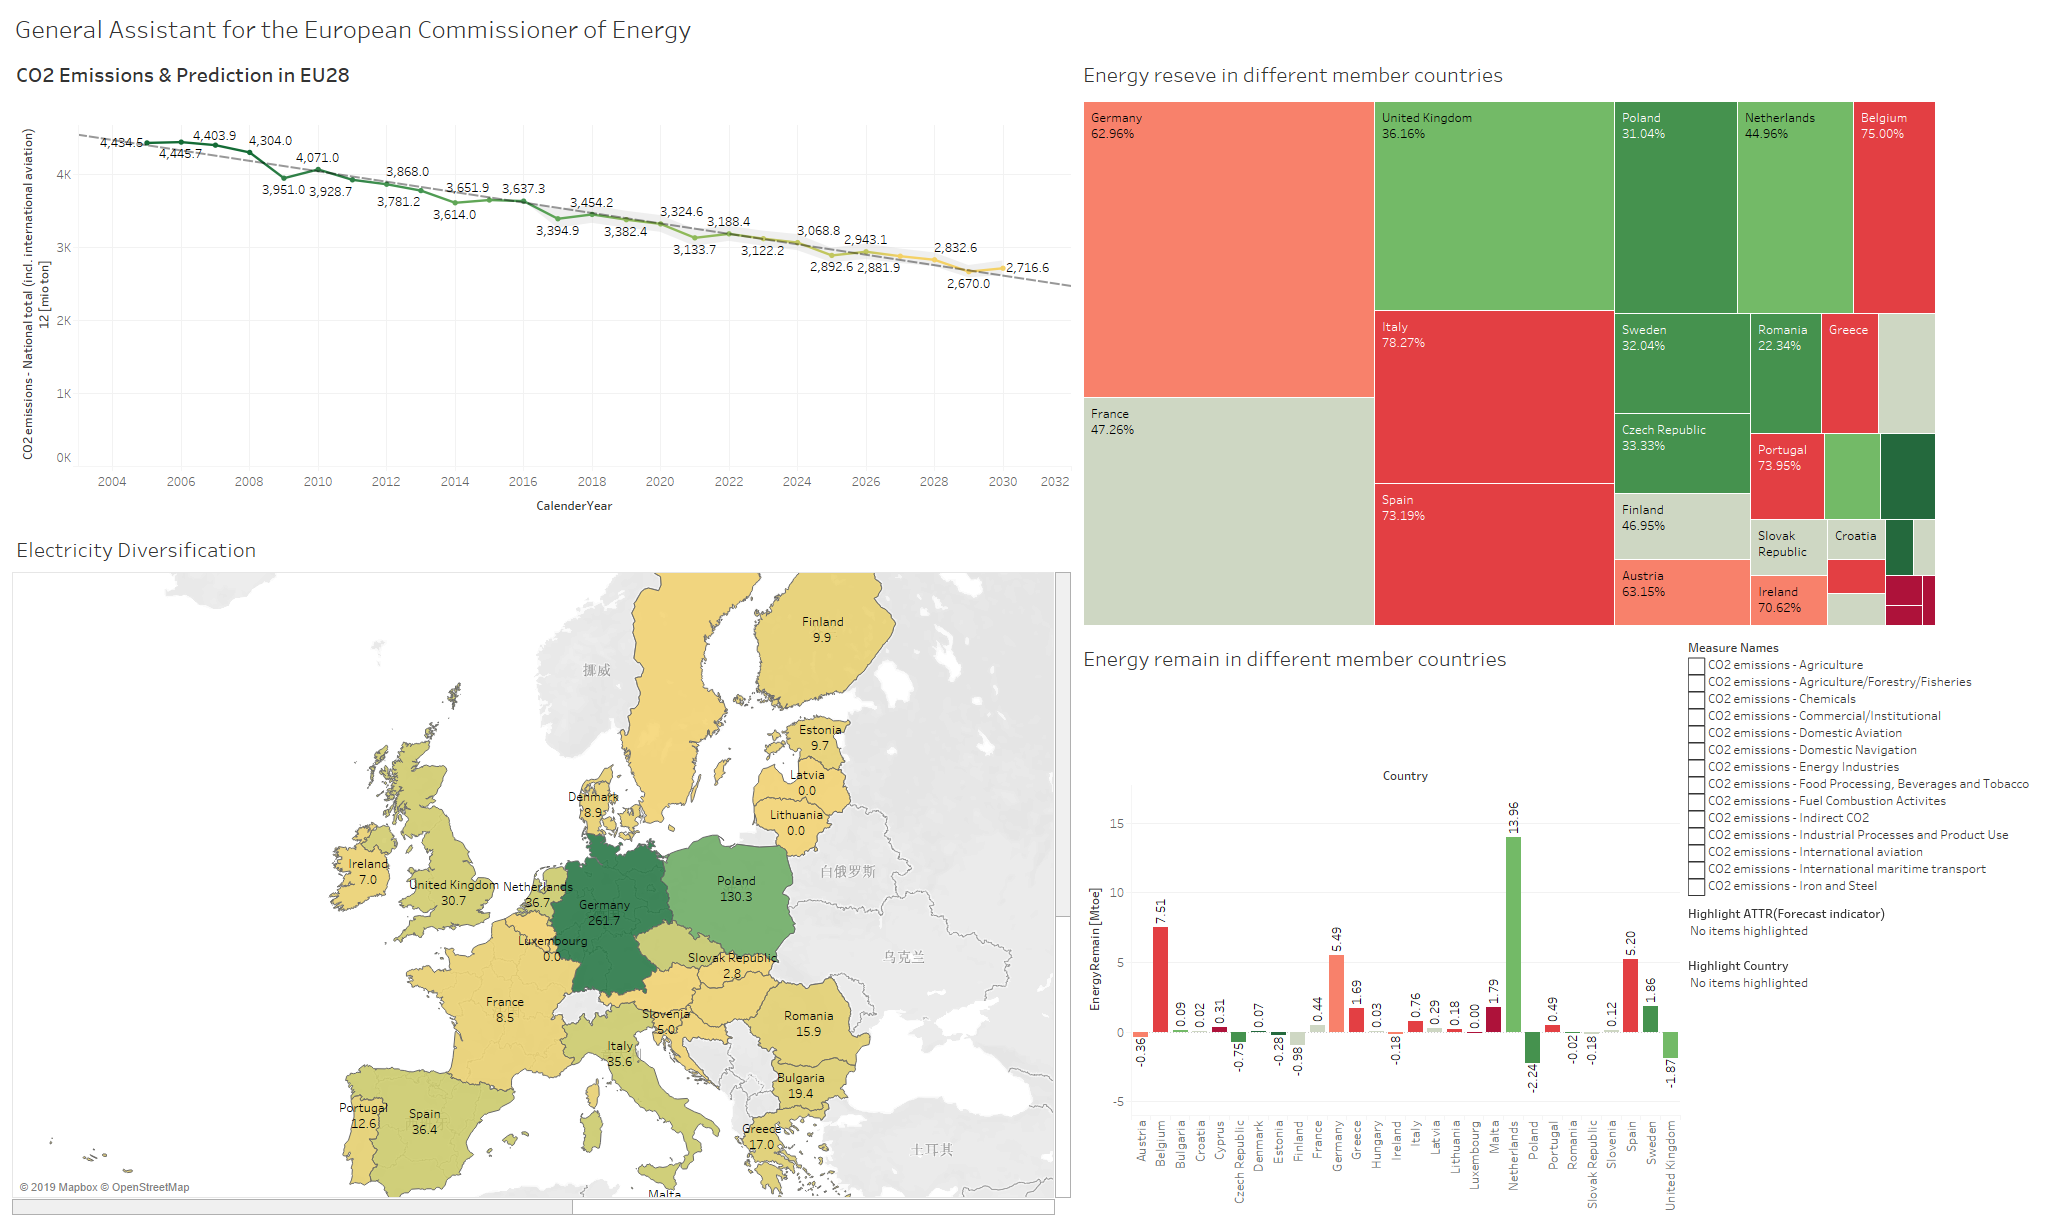

The page's visual inventory and layout, read from the dashboard file:
{"tool":"tableau","page":{"name":"General Assistant for the European Commissioner of Energy","canvas":[2069,1227],"ordinal":0},"visuals":[{"type":"title","box":[8,8,2053,42]},{"type":"worksheet","title":"CO2Emissions&Prediction","mark":"Line","rows":["CO2 emissions - National total (incl. international aviation"],"cols":["CalenderYear"],"box":[8,50,1067,475]},{"type":"worksheet","title":"EnergyReserve","mark":"Automatic","box":[1075,50,986,584.4]},{"type":"worksheet","title":"ElectricityDiversification","mark":"Automatic","box":[8,525,1067,694]},{"type":"worksheet","title":"EnergyRemain","mark":"Automatic","rows":["Calculation_649362818966081536"],"cols":["Country"],"box":[1075,634.4,609.4,584.6]},{"type":"filter","title":"ElectricityDiversification","param":"[federated.1gayz890fdzs9511abcvl0mtqnmx].[:Measure Names]","box":[1684.4,634.4,376.6,266]},{"type":"highlighter","title":"CO2Emissions&Prediction","param":"[federated.1gayz890fdzs9511abcvl0mtqnmx].[attr:Forecast Indicator:nk]","box":[1684.4,900.4,376.6,52]},{"type":"highlighter","title":"EnergyReserve","param":"[federated.1gayz890fdzs9511abcvl0mtqnmx].[none:Country:nk]","box":[1684.4,952.4,376.6,52]}]}

Visuals, with their boxes in screenshot pixels (x1, y1, x2, y2), scaled from the page's 2069x1227 canvas onto the 2069x1227 screenshot:
title: (8, 8, 2061, 50)
"CO2Emissions&Prediction" worksheet (Line marks): (8, 50, 1075, 525)
"EnergyReserve" worksheet: (1075, 50, 2061, 634)
"ElectricityDiversification" worksheet: (8, 525, 1075, 1219)
"EnergyRemain" worksheet: (1075, 634, 1684, 1219)
"ElectricityDiversification" filter: (1684, 634, 2061, 900)
"CO2Emissions&Prediction" highlighter: (1684, 900, 2061, 952)
"EnergyReserve" highlighter: (1684, 952, 2061, 1004)
